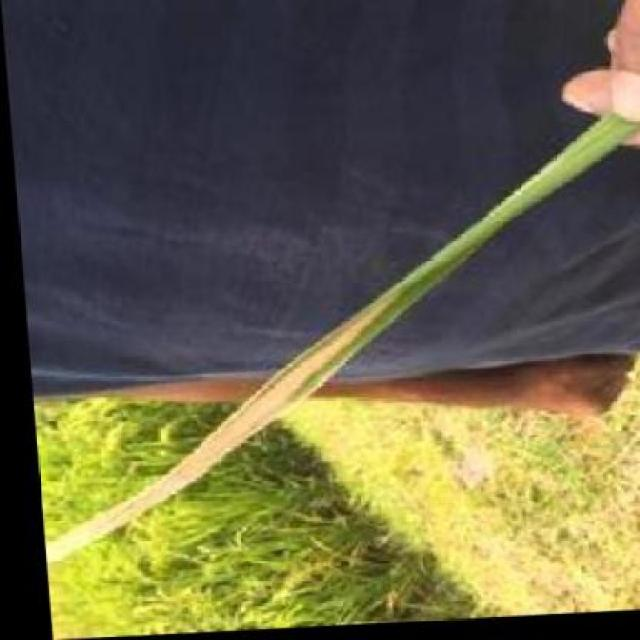Brown_Spot: (26, 295, 403, 540)
